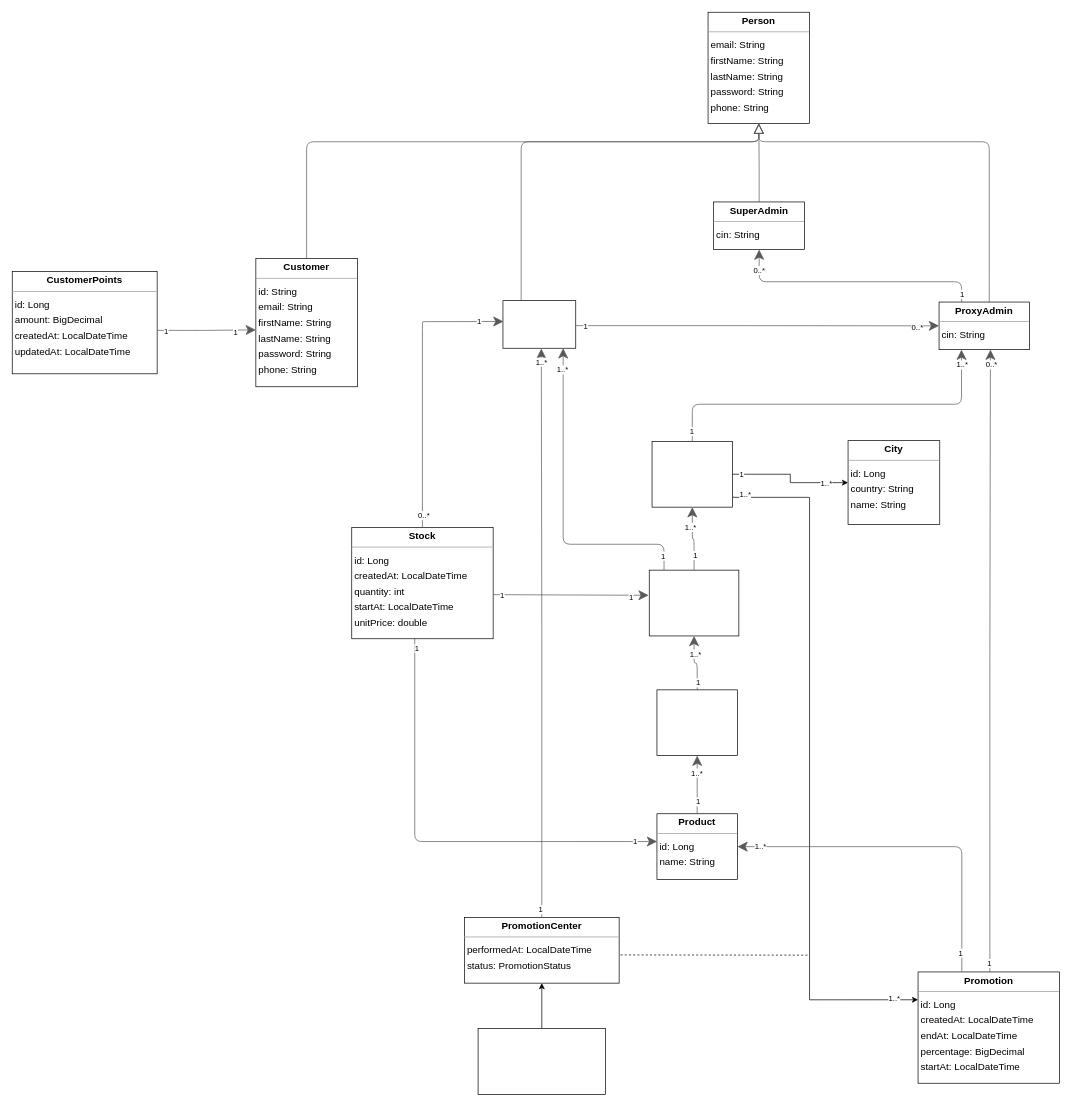
The diagram is 1072 pixels wide and 1107 high, and some of its shapes have lost their labels. The shapes that lost their labels are listed below. From the top down, each one's centre as x and y in pixels, then its label:
At (539,324): "Manager cin: String".
At (692,474): "Center id: Long name: String".
At (694,602): "Department id: Long name: String".
At (696,722): "Category id: Long name: String".
At (541,1061): "PromotionCenterId centerId: Long promotionId: Long".
